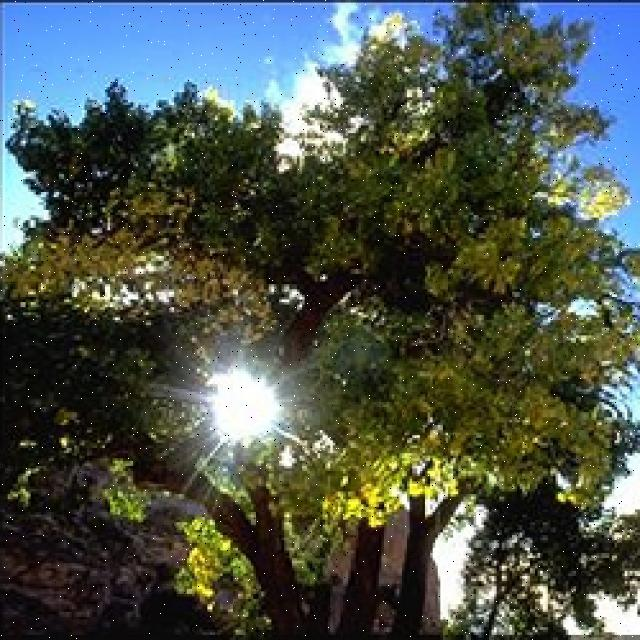light: (196, 353, 310, 475)
